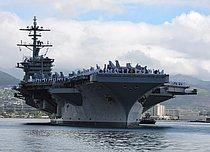MIL_Ship: (12, 14, 200, 130)
